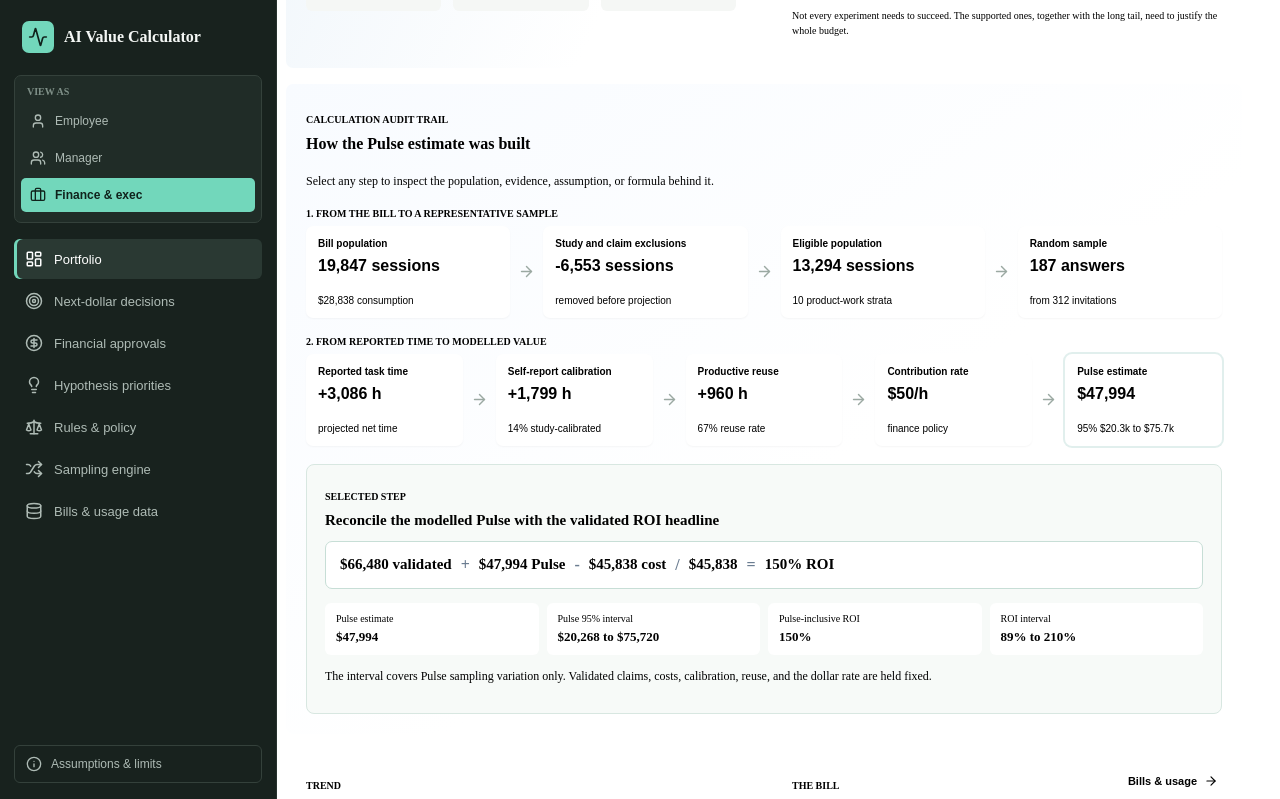
Test case: Finance and executive portfolio › drills into calibration and reconciles the Pulse-inclusive ROI
(page scrolled)
What coordinates should you click on to do the following:
click the button "Self-report calibration +1,799 h 14% study-calibrated"
I would click on:
 (574, 400)
Its box is [496,354,653,446].
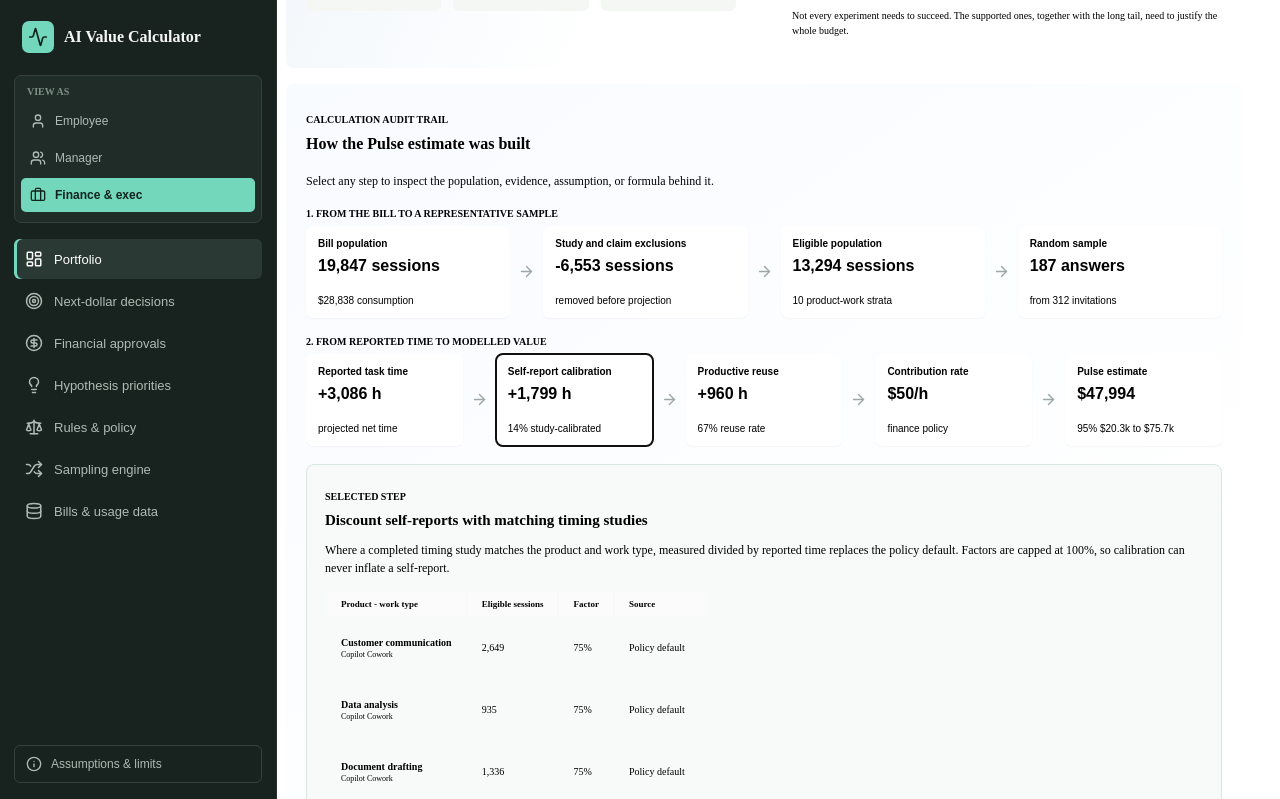
Check: the heading "Discount self-reports with matching timing studies" is shown, box [325,512,648,528]
What coordinates should you click on to do the following:
click the button "Pulse estimate $47,994 95% $20.3k to $75.7k"
I would click on:
 (1144, 400)
Its box is [1065,354,1222,446].
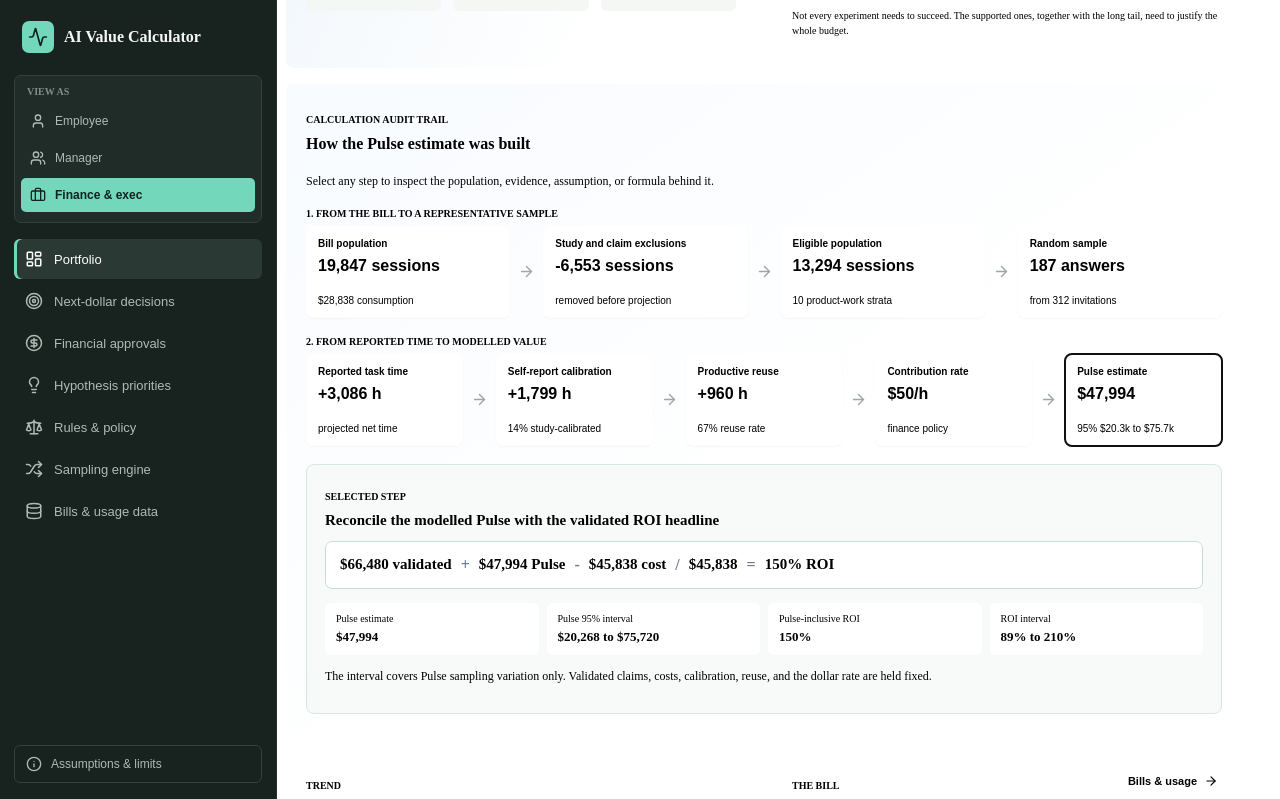
Check: the text "$20,268 to $75,720" is shown, box [558,628,659,644]
Check: the text "sampling variation only" is shown, box [325,668,932,682]
Check: the text "150% ROI" is shown, box [765,556,834,573]
